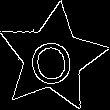O_N: (27, 30, 78, 87)
